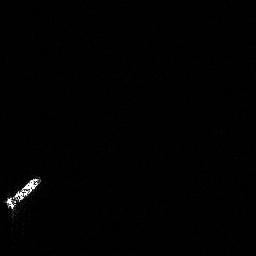ship: (7, 176, 40, 209)
